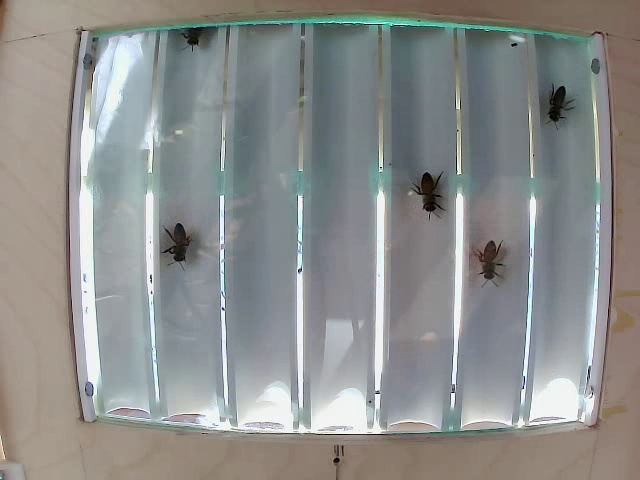bee: (476, 232, 518, 285), (155, 220, 197, 271), (422, 170, 460, 217), (544, 79, 566, 119)
